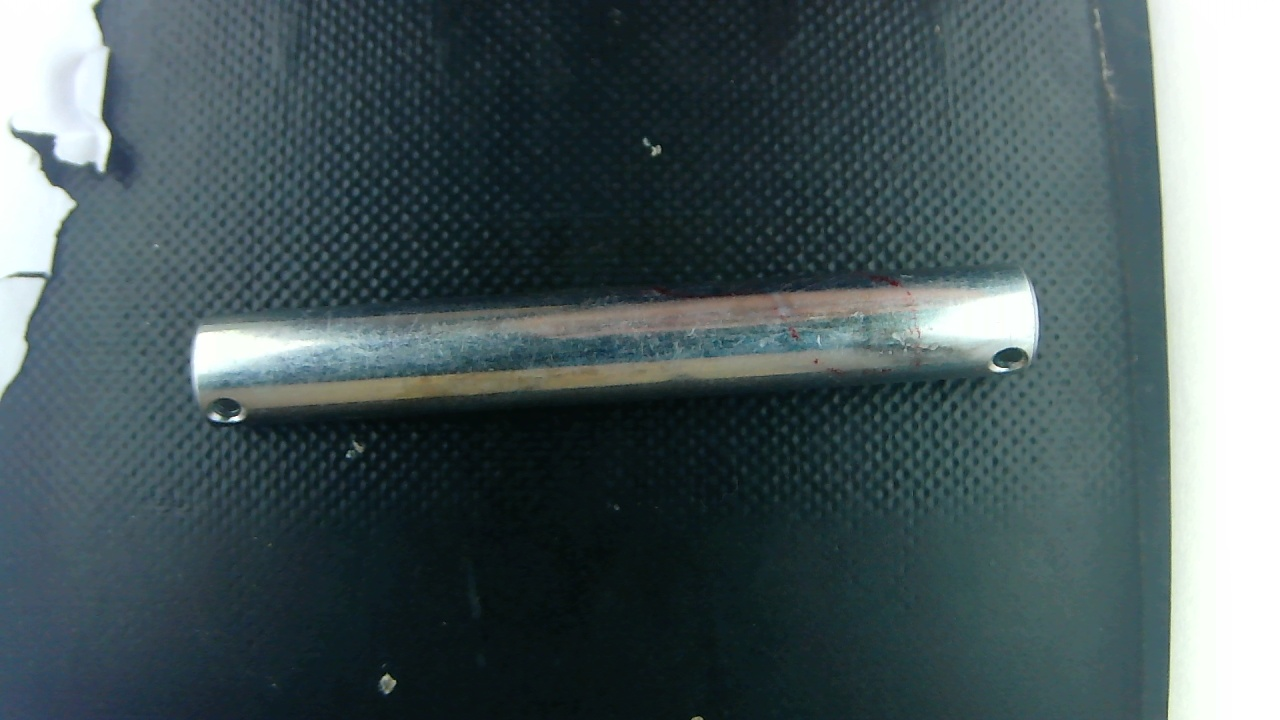black patch_pin: (769, 282, 963, 371)
